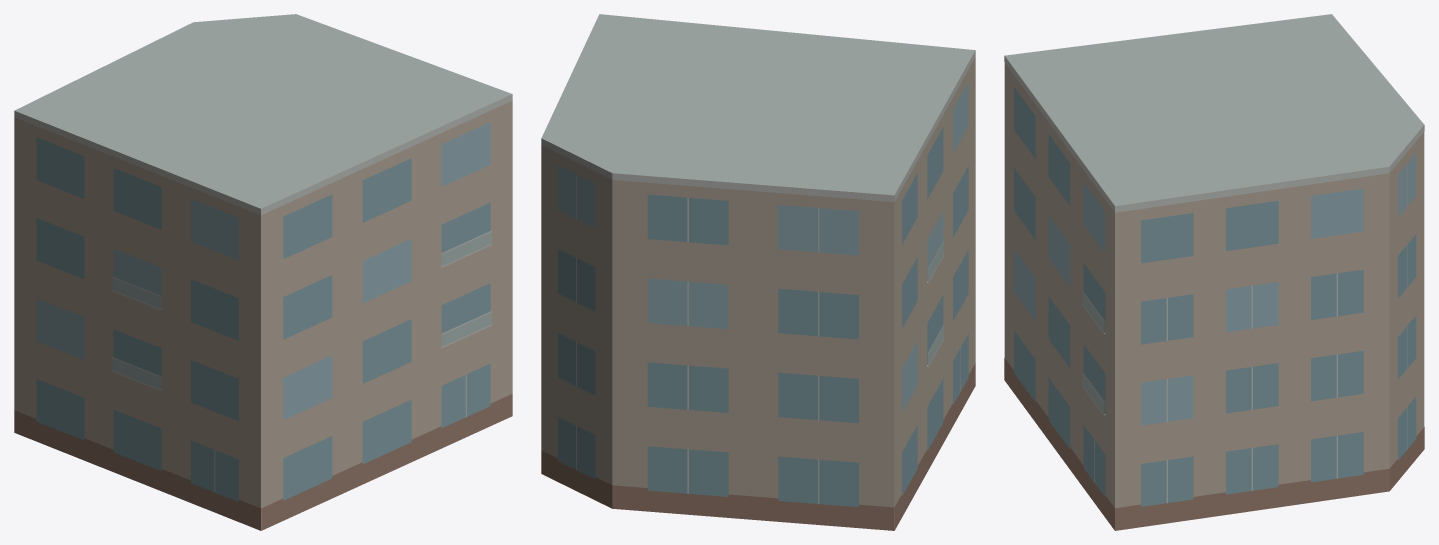
The model's file is survey-upis-32838793.glb.
The picture shows the model from 3 angles, left to right: view 1: azimuth 30°, elevation 25°; view 2: azimuth 150°, elevation 25°; view 3: azimuth 270°, elevation 25°; orthographic projection. The views are drawn at different scales.
Parts seen in each view (by area): view 1: survey-upis-32838793.tmp; view 2: survey-upis-32838793.tmp; view 3: survey-upis-32838793.tmp.
Part boxes in pixels (x1=…): survey-upis-32838793.tmp: x1=14, y1=14, x2=512, y2=530; survey-upis-32838793.tmp: x1=541, y1=14, x2=975, y2=530; survey-upis-32838793.tmp: x1=1004, y1=14, x2=1424, y2=530.
Bounding box in the file's own units: 15.44 × 12.15 × 14.25.
